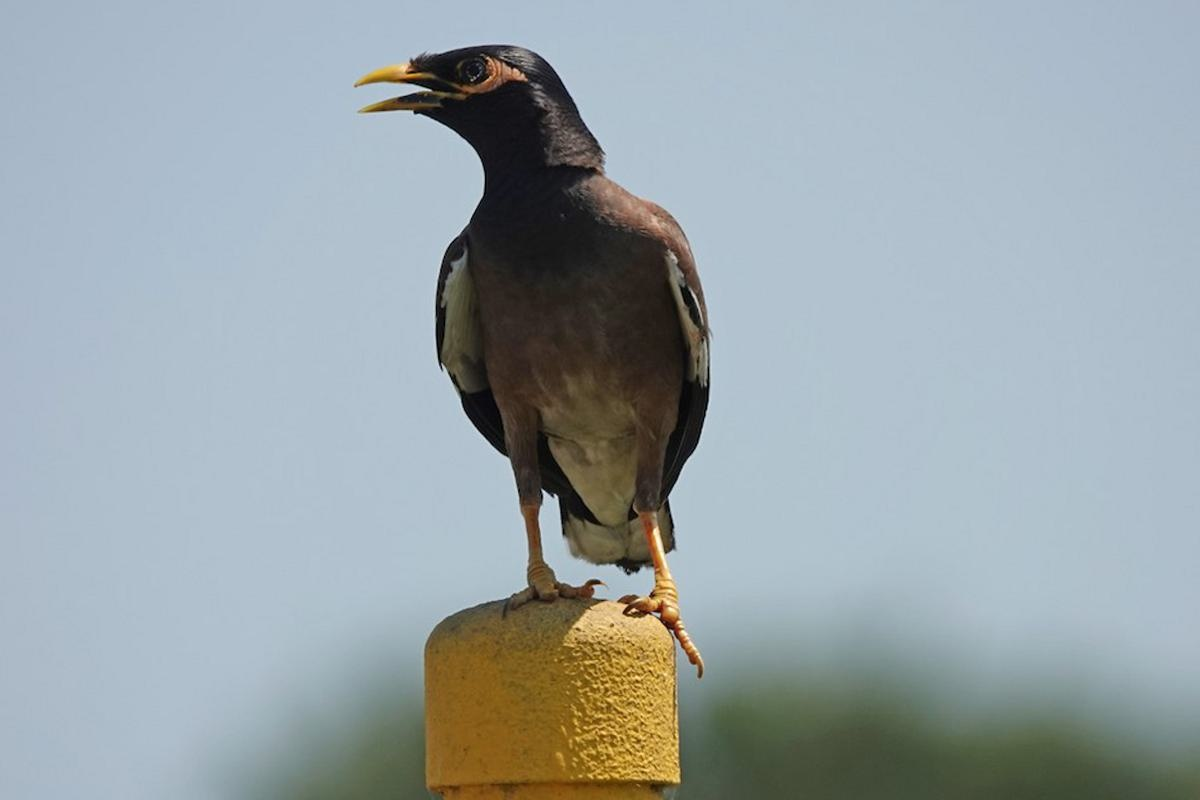myna: (323, 34, 765, 645)
